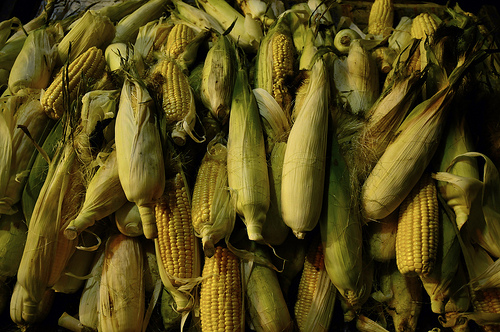corn: (281, 60, 336, 238), (114, 47, 162, 241), (41, 46, 105, 117), (395, 179, 437, 276), (198, 246, 243, 331)
